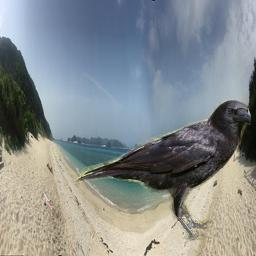Crow: (71, 99, 251, 242)
